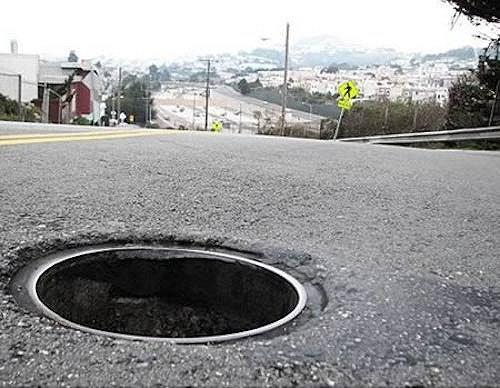wellcover: (10, 227, 328, 364)
